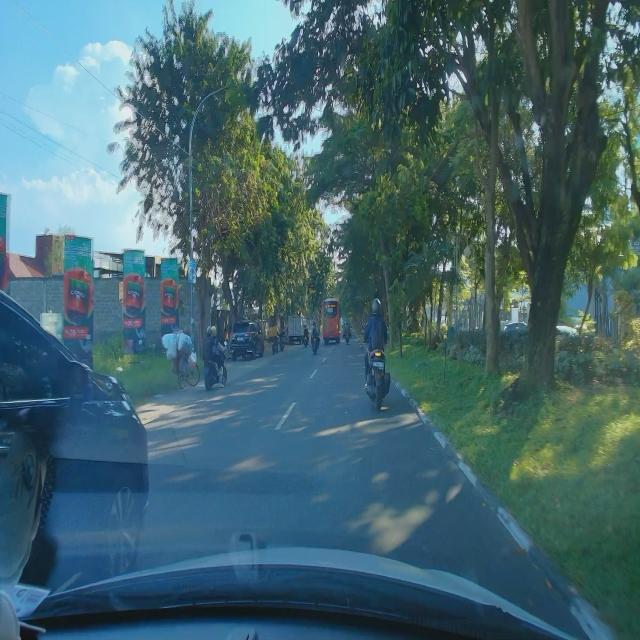bus: (322, 298, 341, 344)
car: (228, 319, 264, 362)
